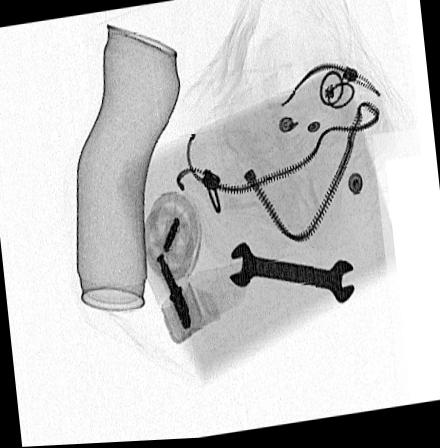Wrench: (227, 240, 359, 308)
